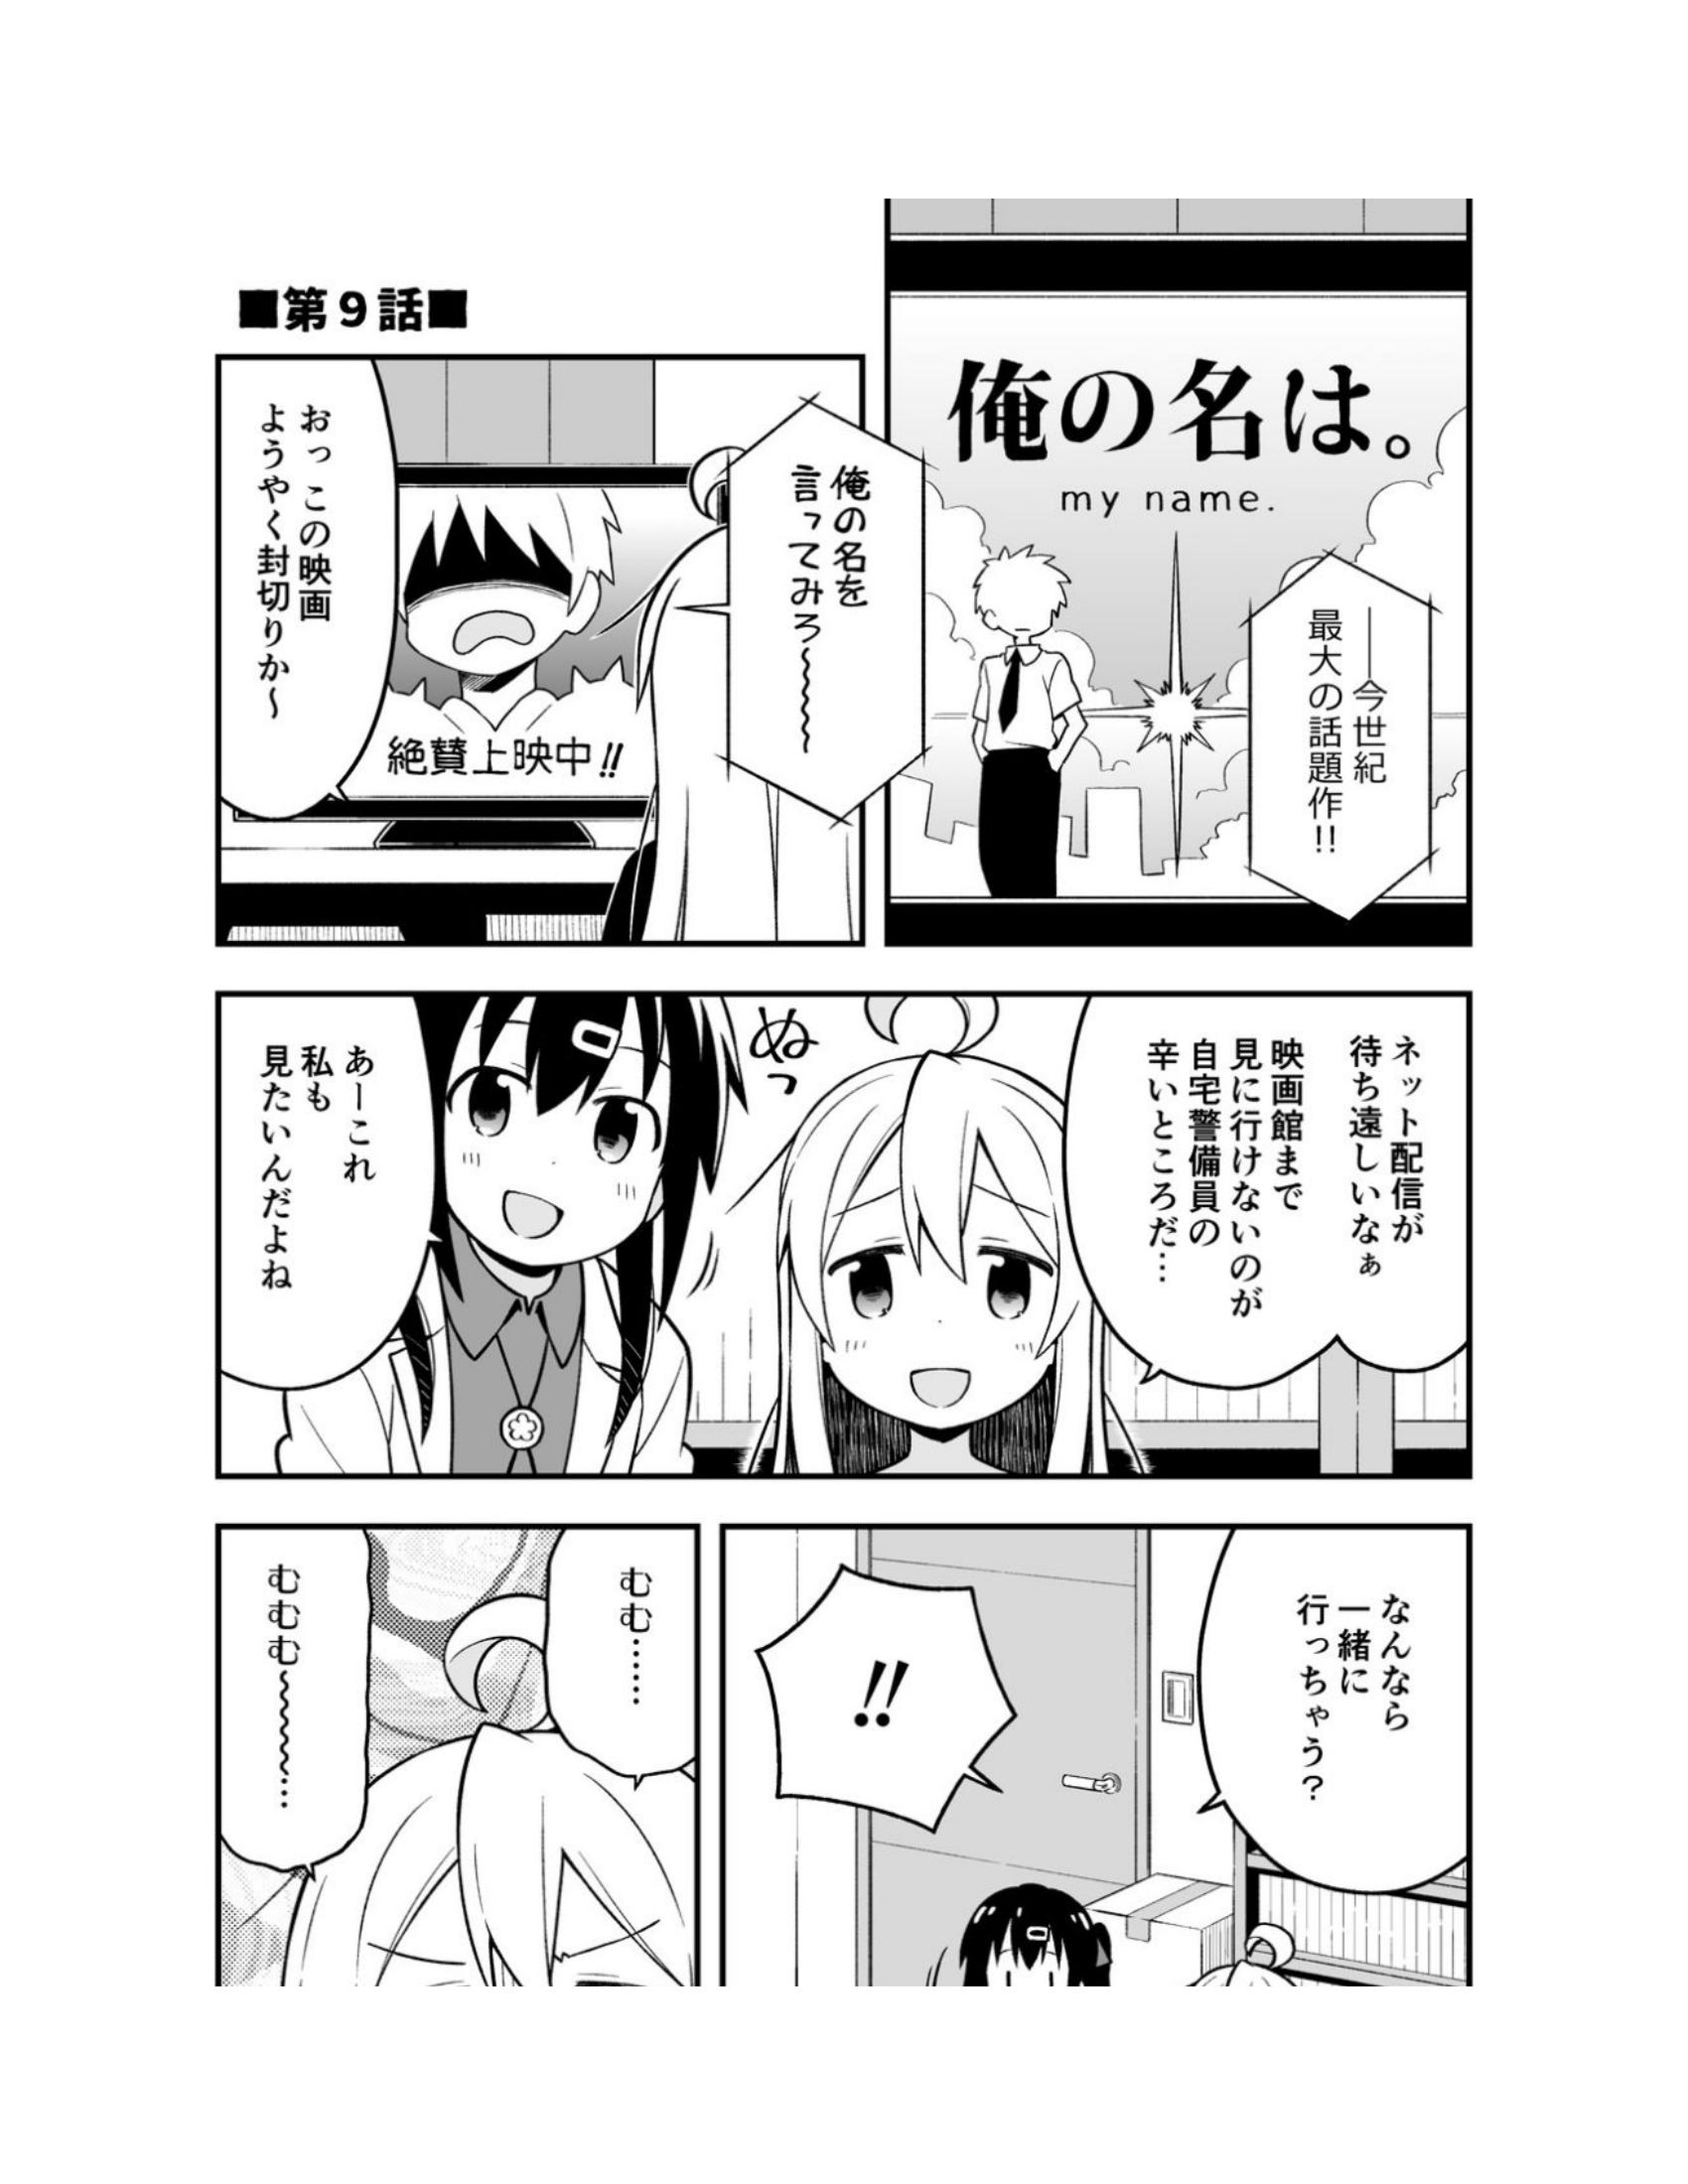a: (1032, 993, 1489, 1390), (1163, 1501, 1534, 1899), (200, 973, 470, 1409), (684, 408, 950, 838), (207, 356, 426, 828), (1234, 528, 1459, 899), (231, 1494, 395, 1881), (530, 1501, 695, 1780)
